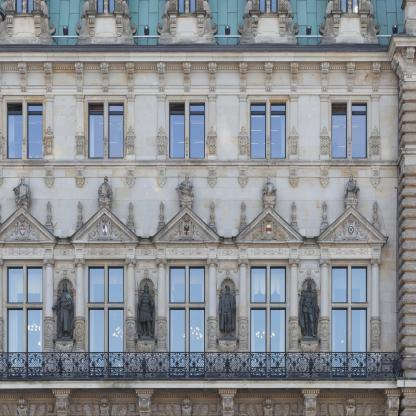Balcony: (0, 351, 401, 381)
Building Outline: (0, 0, 416, 416)
Cornice: (66, 205, 142, 248), (314, 205, 389, 248), (149, 205, 224, 248), (231, 205, 306, 248), (0, 205, 59, 248)
Deco: (51, 282, 75, 339), (298, 280, 320, 338), (137, 281, 155, 339), (219, 284, 236, 339), (175, 174, 195, 210), (12, 176, 31, 211), (343, 173, 360, 210), (261, 175, 277, 210), (97, 176, 113, 210), (17, 62, 28, 92), (99, 62, 110, 91), (238, 62, 249, 91), (289, 62, 300, 91), (345, 62, 356, 91), (320, 201, 329, 234), (45, 201, 54, 234), (43, 62, 53, 91), (74, 62, 84, 91), (125, 62, 135, 91), (156, 62, 166, 91), (182, 62, 192, 91), (207, 62, 217, 91), (371, 62, 381, 91), (264, 62, 274, 91), (320, 62, 330, 91), (127, 202, 136, 234), (372, 201, 381, 232), (75, 201, 84, 232), (156, 201, 165, 232), (290, 201, 299, 232), (209, 201, 217, 233), (239, 201, 247, 233)
Facade: (0, 0, 416, 416)
Floor: (0, 209, 416, 381), (0, 60, 416, 200), (0, 389, 415, 416)
Floor Slab: (0, 381, 416, 390), (0, 200, 416, 209), (0, 52, 416, 61)
Molding: (0, 389, 402, 416), (0, 86, 399, 95), (0, 248, 381, 256), (0, 65, 394, 70)
Pillar: (391, 47, 416, 416), (42, 258, 55, 379), (73, 257, 86, 378), (154, 257, 167, 378), (236, 257, 249, 378), (124, 258, 137, 378), (287, 258, 300, 378), (318, 257, 330, 378), (369, 258, 381, 378), (206, 258, 218, 378), (74, 94, 86, 188), (44, 94, 55, 188), (370, 94, 381, 188), (319, 94, 330, 188), (125, 94, 136, 188), (207, 94, 218, 188), (156, 94, 167, 188), (288, 94, 299, 188), (237, 94, 248, 188)
Roof: (0, 0, 406, 51)
Top Floor: (0, 1, 416, 52)
Window: (7, 308, 23, 376), (270, 308, 286, 376), (250, 308, 266, 376), (189, 308, 205, 376), (169, 308, 185, 376), (108, 308, 124, 376), (88, 308, 104, 376), (27, 308, 42, 376), (352, 308, 367, 376), (332, 308, 347, 376), (352, 102, 367, 158), (332, 102, 347, 158), (27, 102, 42, 158), (109, 102, 124, 158), (89, 102, 104, 158), (190, 102, 205, 158), (170, 102, 185, 158), (271, 102, 286, 158), (251, 102, 266, 158), (7, 102, 22, 158), (7, 267, 23, 303), (108, 267, 124, 303), (189, 267, 205, 303), (270, 267, 286, 303), (351, 267, 367, 303), (27, 267, 42, 303), (89, 267, 104, 303), (170, 267, 185, 303), (251, 267, 266, 303), (332, 267, 347, 303), (26, 0, 34, 12), (15, 0, 23, 12), (259, 0, 267, 12), (352, 0, 359, 12), (341, 0, 348, 12), (108, 0, 115, 12), (97, 0, 104, 12), (189, 0, 196, 12), (178, 0, 185, 12), (270, 0, 277, 12)
